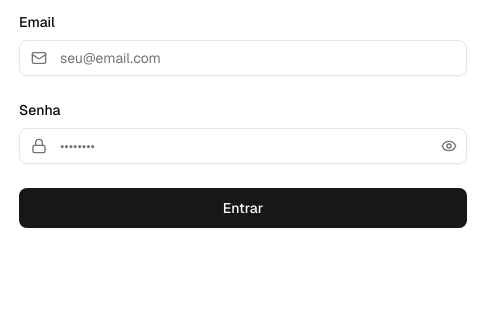
Test: LoginForm › should handle rate limiting error
Type "test@example.com" into the field with placeholder "seu@email.com" at (243, 58), box [19,40,467,76]
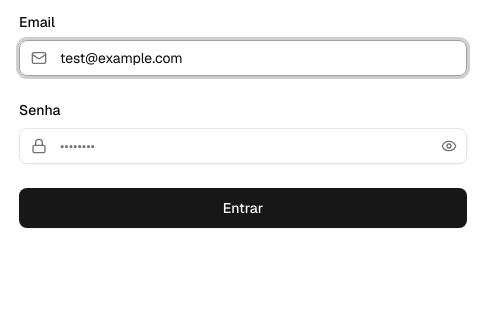
Type "password123" into the password field with placeholder "••••••••" at (243, 146), box [19,128,467,164]
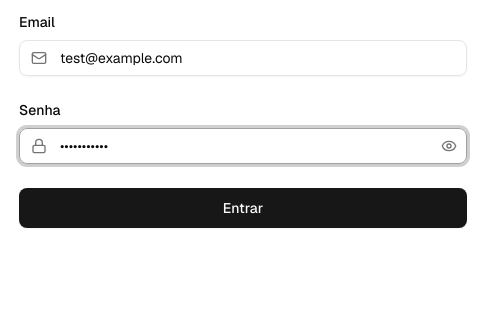
Click the button "Entrar" at (243, 208), box [19,188,467,228]
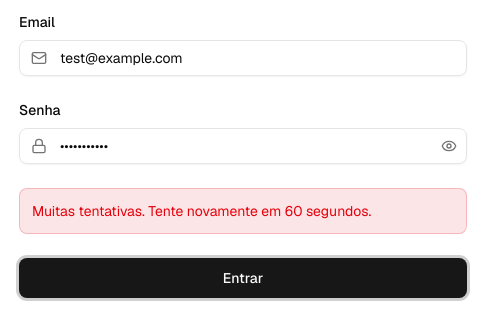
Result: the text "Muitas tentativas. Tente novamente em 60 segundos." is shown at [19,188,467,234]
